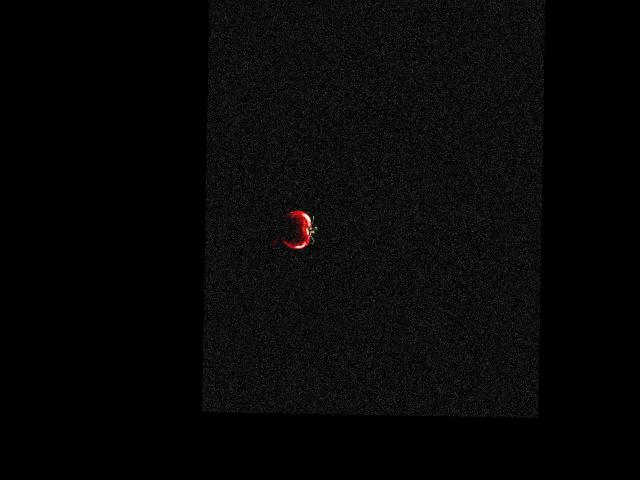tomato: (281, 210, 312, 248)
